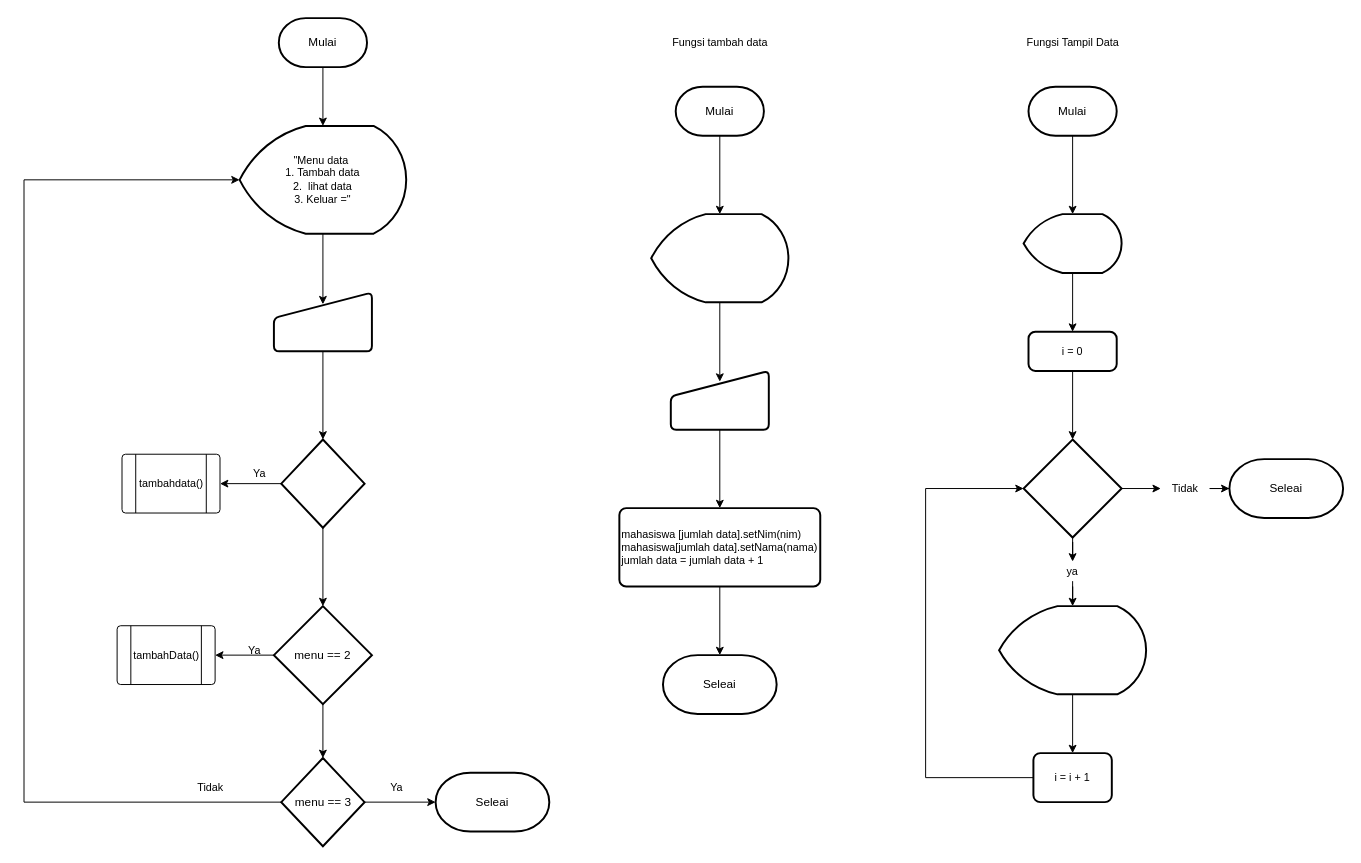
This 1361x863 diagram has some shape labels left out. Each missing label, with the centre of its shape:
"Berikut data anda": point 1072,243
"silahkan tmbahkan data": point 719,258
i<jumlahdata: point 1072,488
mahasiswa[i].getNim() mahasiswa[i].getNama(): point 1072,650
menu: point 322,321
menu == 1: point 322,483
nim, nama: point 719,399
